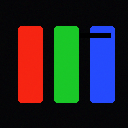3 line_h: (80, 33, 110, 37)
